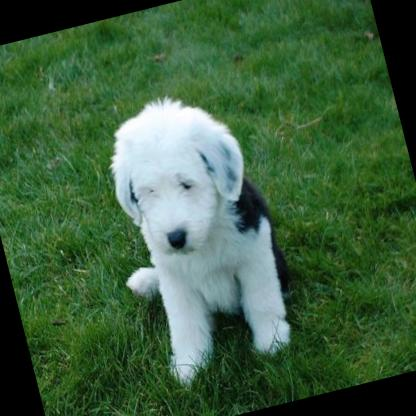Old_English_sheepdog: (78, 80, 328, 406)
